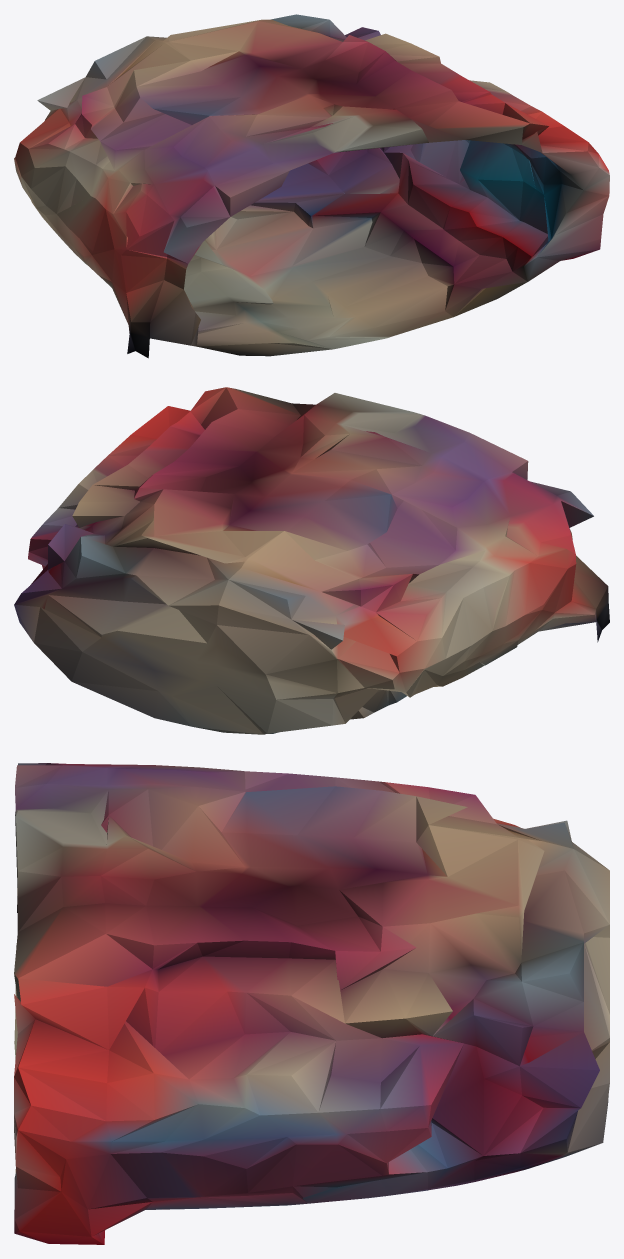
The picture shows the model from 3 angles, top to bottom: view 1: azimuth 30°, elevation 25°; view 2: azimuth 150°, elevation 25°; view 3: azimuth 270°, elevation 25°; orthographic projection. The views are drawn at different scales.
Size of the model in its own units: 14.52 by 6 by 11.02.
